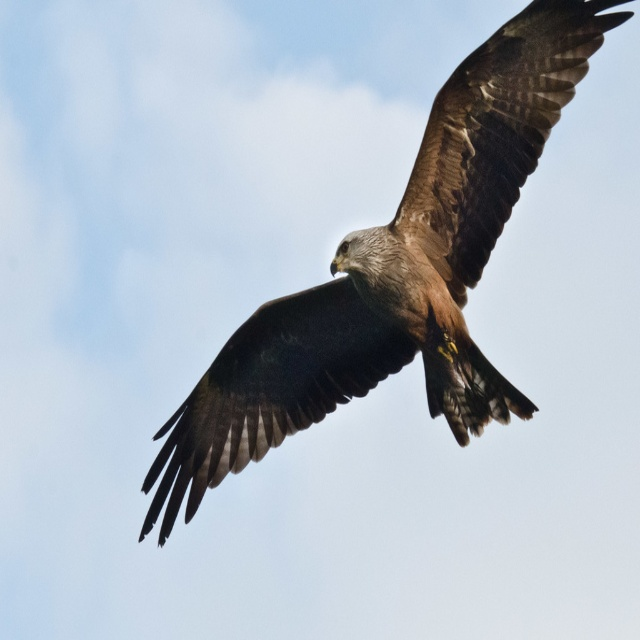Eagle: (138, 0, 639, 548)
